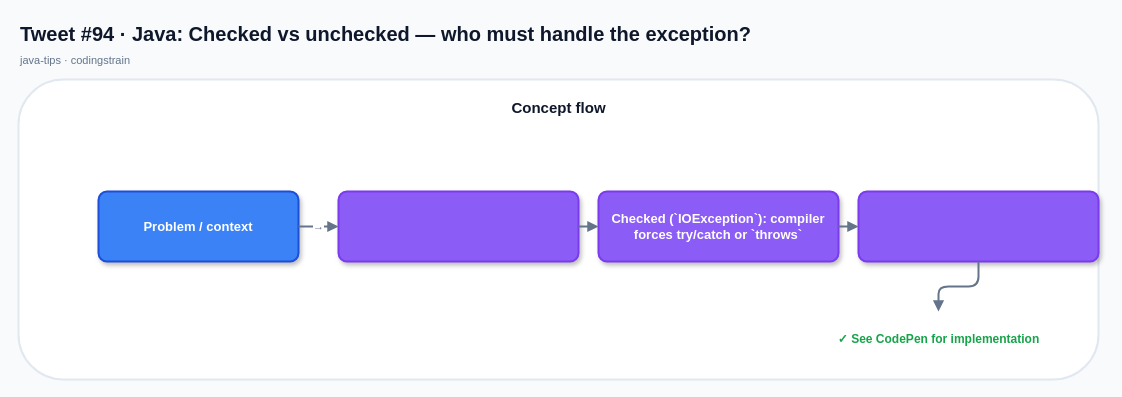
The diagram is 1122 pixels wide and 397 high, and some of its shapes have lost their labels. The centre of each missing label's shape, as x and y in pixels:
"Unchecked (`RuntimeException`): no compile-time handler required" goes at (x=979, y=227).
"💡 Java: Checked vs unchecked — who must handle the exception?" goes at (x=459, y=227).
